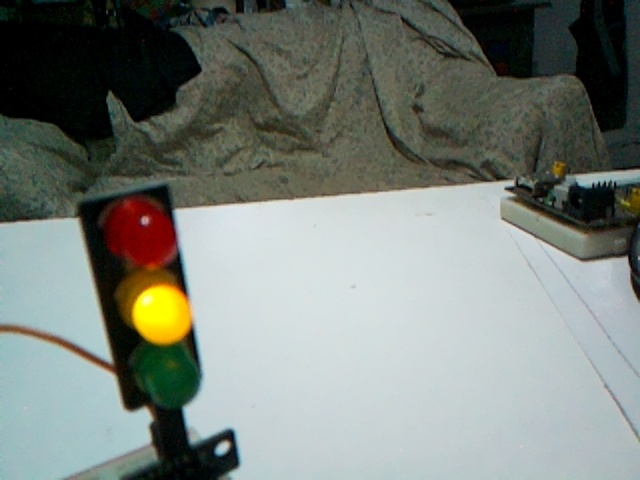traffic_light_yellow: (78, 182, 202, 412)
